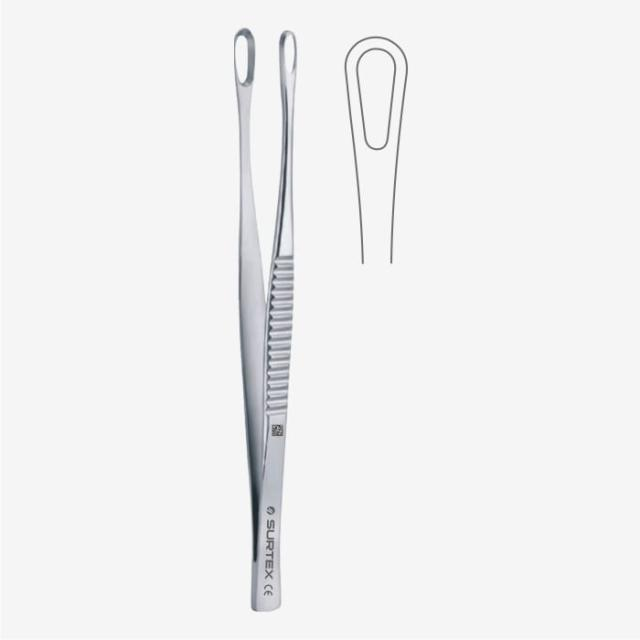Eye Intestinal Forceps: (213, 12, 320, 618)
